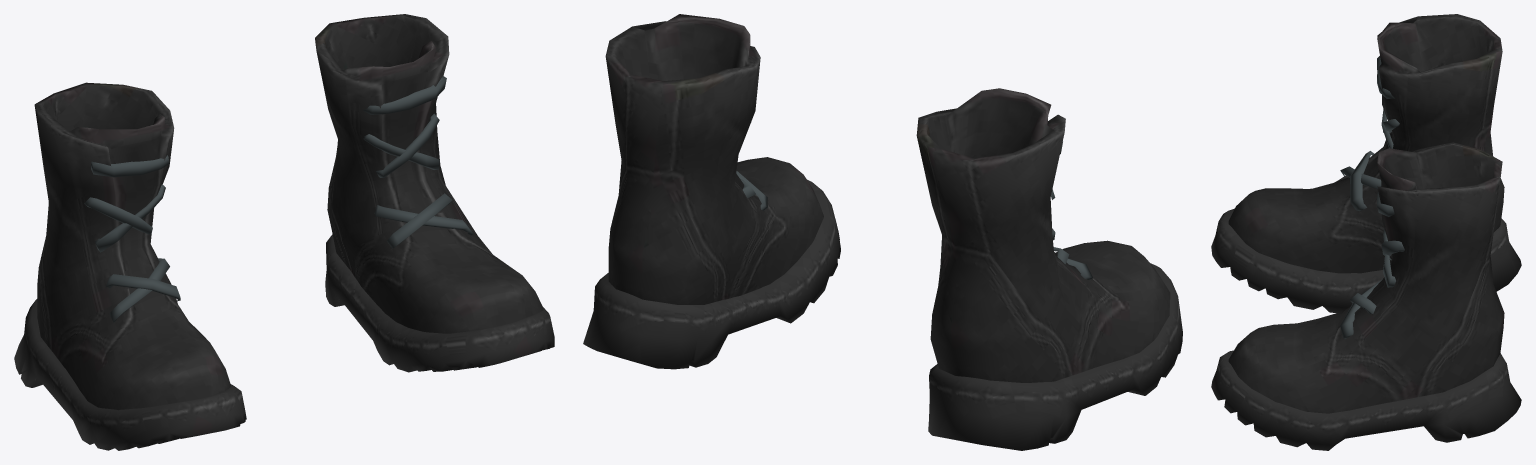
Rendered from shoe3.glb.
The picture shows the model from 3 angles, left to right: view 1: azimuth 30°, elevation 25°; view 2: azimuth 150°, elevation 25°; view 3: azimuth 270°, elevation 25°; orthographic projection. The views are drawn at different scales.
Parts seen in each view (by area): view 1: Wolf3D_Outfit_Footwear; view 2: Wolf3D_Outfit_Footwear; view 3: Wolf3D_Outfit_Footwear.
Boxes of the visible parts, x1,y1,x2,y2 form: Wolf3D_Outfit_Footwear: (14, 14, 554, 450); Wolf3D_Outfit_Footwear: (583, 14, 1182, 450); Wolf3D_Outfit_Footwear: (1211, 14, 1521, 450).
Bounding box in the file's own units: 0.4883 × 0.2911 × 0.3187.
1 material, 1 textured.
